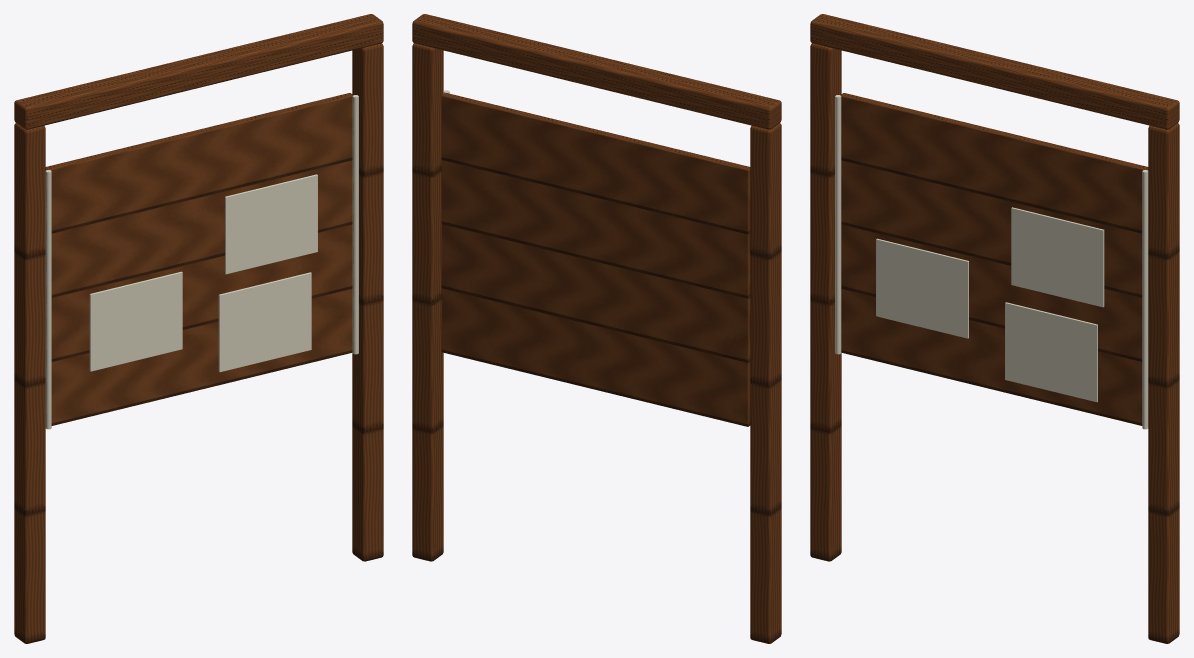
3 views of the same model, side by side, from view 1: azimuth 30°, elevation 25°; view 2: azimuth 150°, elevation 25°; view 3: azimuth 330°, elevation 25° (orthographic).
Parts seen in each view (by area): view 1: deal-notice-board; view 2: deal-notice-board; view 3: deal-notice-board.
Boxes of the visible parts, left/top/right/bottom form: deal-notice-board: left=14, top=14, right=383, bottom=643; deal-notice-board: left=412, top=14, right=781, bottom=643; deal-notice-board: left=810, top=14, right=1179, bottom=643.
Bounding box in the file's own units: 1.17 × 1.67 × 0.0699.
2 materials, 1 textured.
